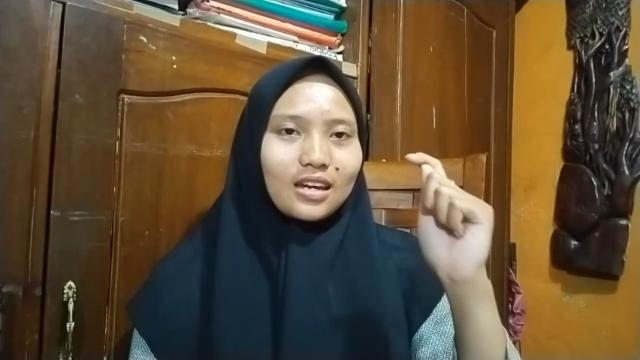T: (402, 151, 494, 280)
